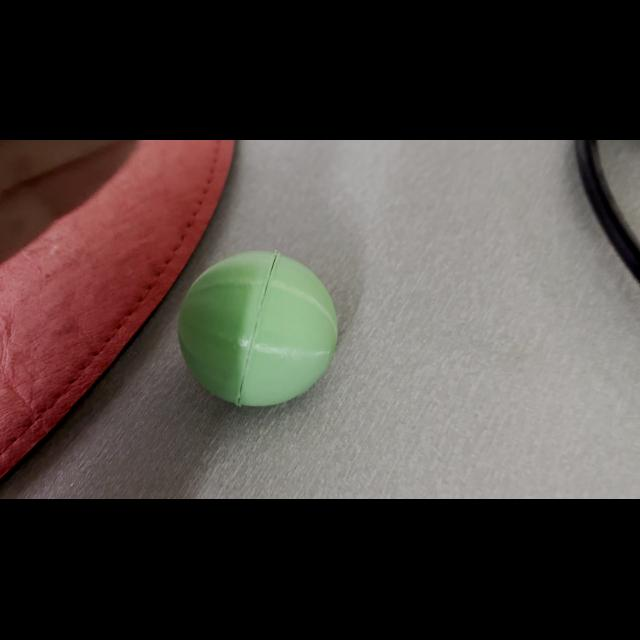objects: (172, 240, 352, 424)
